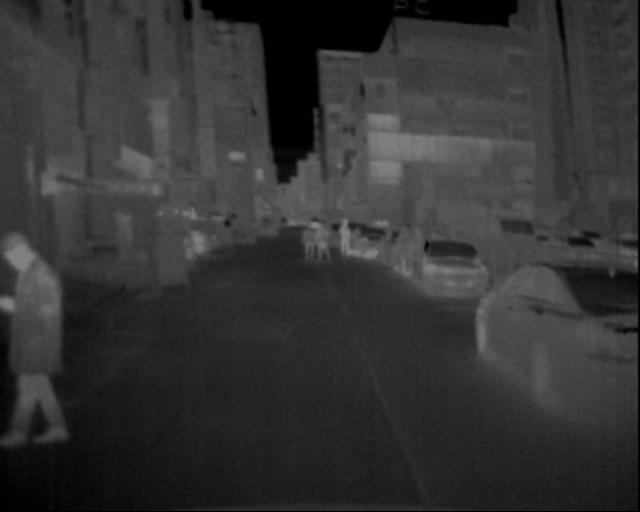person: (297, 204, 320, 280), (314, 208, 340, 274), (338, 205, 359, 273)
